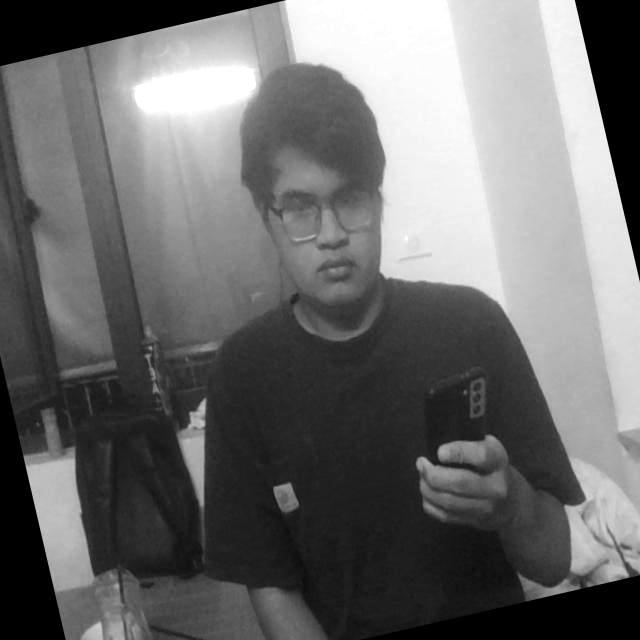phone: (397, 345, 532, 527)
